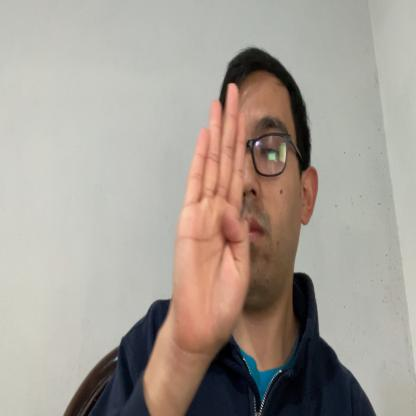B: (172, 82, 252, 356)
